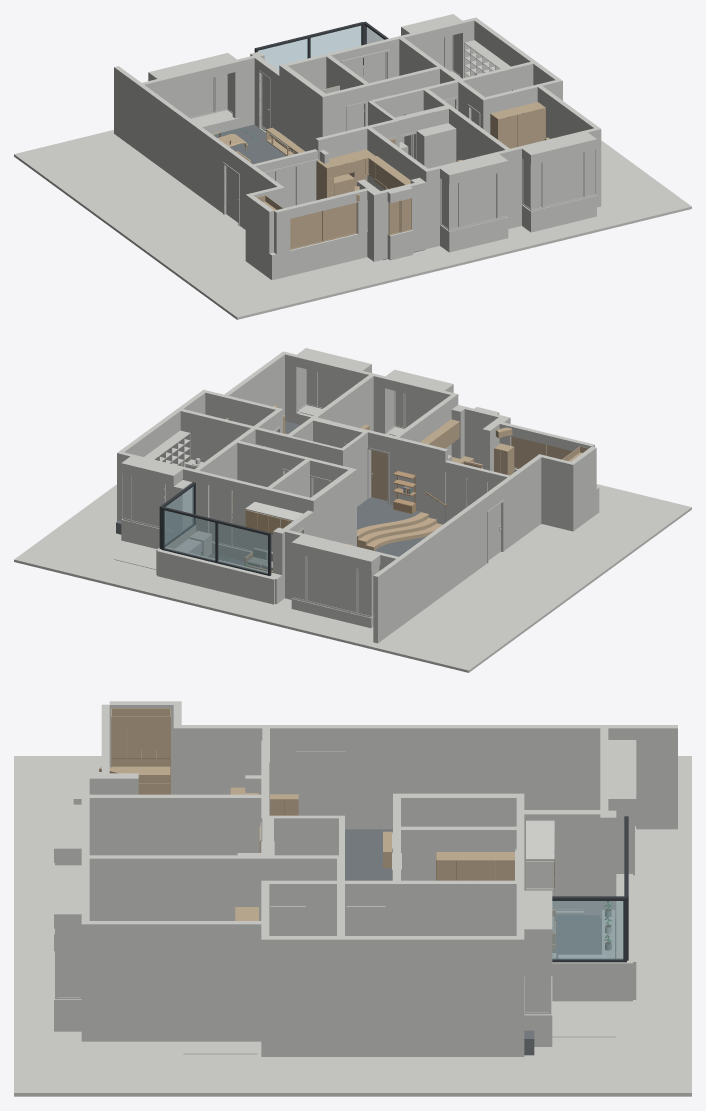
The model's file is interaction_proxy.glb.
3 views of the same model, one above another, from view 1: azimuth 30°, elevation 25°; view 2: azimuth 150°, elevation 25°; view 3: azimuth 270°, elevation 25° (orthographic). The views are drawn at different scales.
Visible parts, largest first — view 1: SITE_GROUND.001, VIEW_WALL_W_wall_md_0006.001, VIEW_WALL_LIVING_FIX_GUEST_BATH_FULL_WALL.001, VIEW_WALL_W_wall_md_0042.001, VIEW_WALL_W_wall_md_0035.001, V4_W-MB-S_FRONT_GLASS_1.001, VIEW_WALL_W_wall_md_0034.001, V4_W-SMB-S_FRONT_GLASS_1.001, VIEW_WALL_W_wall_md_0007.001, VIEW_WALL_W_wall_md_0021.001, VIEW_WALL_W_wall_md_0030.001, VIEW_WALL_W_wall_md_0060.001 (+45 smaller); view 2: SITE_GROUND.001, VIEW_WALL_W_wall_md_0006.001, VIEW_WALL_W_wall_md_0062.001, VIEW_WALL_W_wall_md_0005.001, VIEW_WALL_W_wall_md_0044.001, VIEW_WALL_W_wall_md_0043.001, VIEW_WALL_LIVING_FIX_GUEST_BATH_FULL_WALL.001, LIVING_FIX_BAY_FRONT_GLASS_1.001, VIEW_WALL_W_wall_md_0049.001, VIEW_WALL_W_wall_md_0055.001, NORTH_BALCONY_GLASS_NORTH_B.001, VIEW_WALL_W_wall_md_0007.001 (+54 smaller); view 3: SITE_GROUND.001, VIEW_WALL_W_wall_md_0030.001, VIEW_WALL_W_wall_md_0033.001, VIEW_WALL_W_wall_md_0006.001, VIEW_WALL_W_wall_md_0021.001, VIEW_WALL_W_wall_md_0015.001, VIEW_WALL_W_wall_md_0032.001, VIEW_WALL_W_wall_md_0005.001, VIEW_WALL_W_wall_md_0025.001, VIEW_WALL_W_wall_md_0007.001, NORTH_BALCONY_GLASS_EAST.001, FLOOR_LOWER.001 (+39 smaller).
Part boxes in pixels (bbox=[...]): SITE_GROUND.001: bbox=[14, 128, 691, 319]; VIEW_WALL_W_wall_md_0006.001: bbox=[139, 85, 227, 212]; VIEW_WALL_LIVING_FIX_GUEST_BATH_FULL_WALL.001: bbox=[282, 66, 325, 153]; VIEW_WALL_W_wall_md_0042.001: bbox=[276, 232, 367, 278]; VIEW_WALL_W_wall_md_0035.001: bbox=[533, 139, 594, 231]; V4_W-MB-S_FRONT_GLASS_1.001: bbox=[543, 152, 583, 206]; VIEW_WALL_W_wall_md_0034.001: bbox=[451, 161, 505, 251]; V4_W-SMB-S_FRONT_GLASS_1.001: bbox=[460, 174, 496, 226]; VIEW_WALL_W_wall_md_0007.001: bbox=[114, 66, 141, 150]; VIEW_WALL_W_wall_md_0021.001: bbox=[449, 107, 509, 161]; VIEW_WALL_W_wall_md_0030.001: bbox=[537, 86, 598, 138]; VIEW_WALL_W_wall_md_0060.001: bbox=[232, 55, 254, 128]; SITE_GROUND.001: bbox=[14, 484, 691, 672]; VIEW_WALL_W_wall_md_0006.001: bbox=[399, 495, 487, 624]; VIEW_WALL_W_wall_md_0062.001: bbox=[157, 547, 277, 604]; VIEW_WALL_W_wall_md_0005.001: bbox=[499, 456, 541, 550]; VIEW_WALL_W_wall_md_0044.001: bbox=[396, 437, 441, 523]; VIEW_WALL_W_wall_md_0043.001: bbox=[541, 455, 575, 531]; VIEW_WALL_LIVING_FIX_GUEST_BATH_FULL_WALL.001: bbox=[311, 470, 354, 545]; LIVING_FIX_BAY_FRONT_GLASS_1.001: bbox=[307, 556, 356, 612]; VIEW_WALL_W_wall_md_0049.001: bbox=[180, 409, 253, 462]; VIEW_WALL_W_wall_md_0055.001: bbox=[196, 470, 266, 561]; NORTH_BALCONY_GLASS_NORTH_B.001: bbox=[164, 510, 215, 560]; VIEW_WALL_W_wall_md_0007.001: bbox=[373, 559, 400, 643]; SITE_GROUND.001: bbox=[14, 756, 691, 1096]; VIEW_WALL_W_wall_md_0030.001: bbox=[89, 921, 261, 1041]; VIEW_WALL_W_wall_md_0033.001: bbox=[345, 936, 516, 1056]; VIEW_WALL_W_wall_md_0006.001: bbox=[345, 725, 600, 829]; VIEW_WALL_W_wall_md_0021.001: bbox=[89, 855, 261, 920]; VIEW_WALL_W_wall_md_0015.001: bbox=[89, 794, 261, 855]; VIEW_WALL_W_wall_md_0032.001: bbox=[261, 936, 336, 1056]; VIEW_WALL_W_wall_md_0005.001: bbox=[181, 725, 296, 794]; VIEW_WALL_W_wall_md_0025.001: bbox=[401, 880, 516, 935]; VIEW_WALL_W_wall_md_0007.001: bbox=[608, 725, 677, 829]; NORTH_BALCONY_GLASS_EAST.001: bbox=[552, 901, 623, 959]; FLOOR_LOWER.001: bbox=[345, 829, 616, 958].
Bounding box in the file's own units: 20 × 3.37 × 17.
